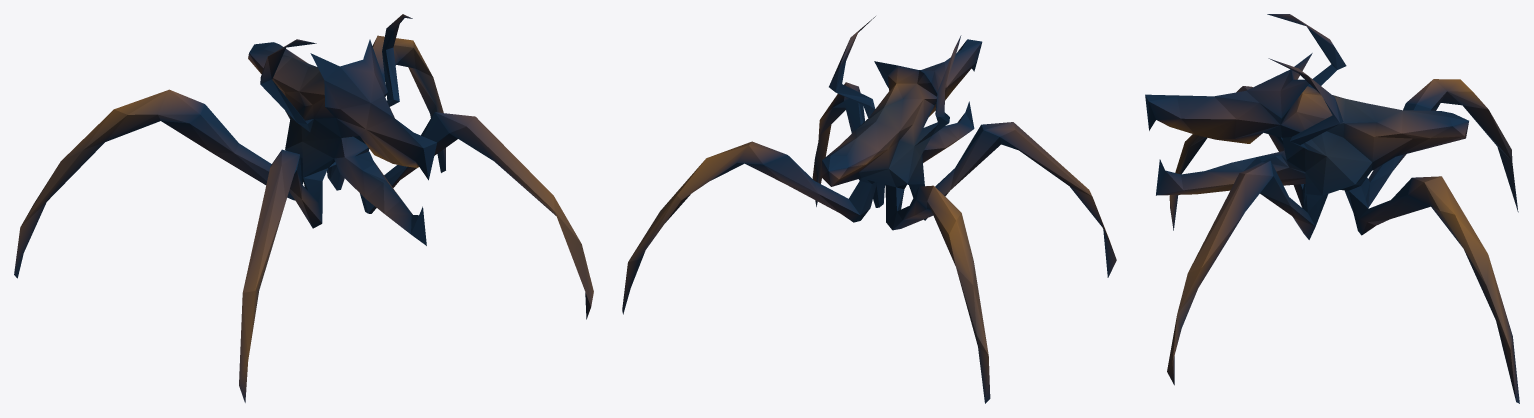
The model's file is Bug.fbx.
3 views of the same model, side by side, from view 1: azimuth 30°, elevation 25°; view 2: azimuth 150°, elevation 25°; view 3: azimuth 270°, elevation 25° (orthographic). The views are drawn at different scales.
Visible parts, largest first — view 1: PM3D_ZSphere_3_SeamsColor; view 2: PM3D_ZSphere_3_SeamsColor; view 3: PM3D_ZSphere_3_SeamsColor.
Part boxes in pixels (bbox=[...]): PM3D_ZSphere_3_SeamsColor: bbox=[14, 14, 593, 402]; PM3D_ZSphere_3_SeamsColor: bbox=[622, 16, 1116, 403]; PM3D_ZSphere_3_SeamsColor: bbox=[1145, 14, 1519, 403].
Size of the model in its own units: 523 by 341 by 424.
